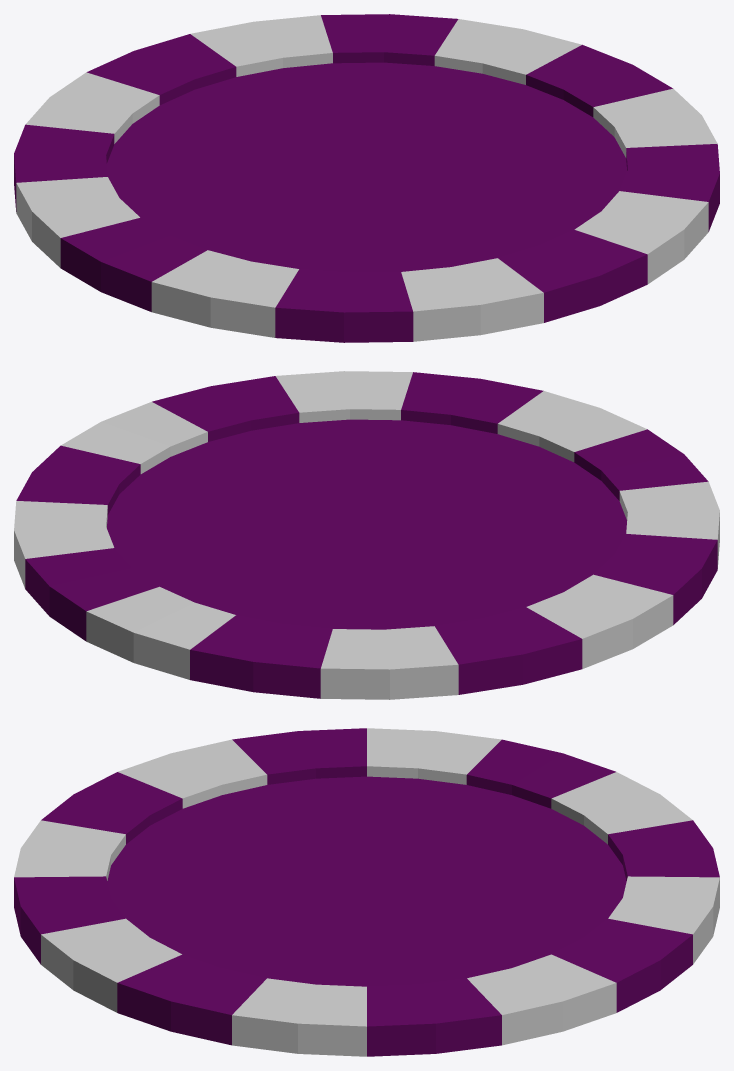
File: PokerChipPurple2.fbx
The picture shows the model from 3 angles, top to bottom: view 1: azimuth 30°, elevation 25°; view 2: azimuth 150°, elevation 25°; view 3: azimuth 270°, elevation 25°; orthographic projection.
Parts seen in each view (by area): view 1: Cylinder; view 2: Cylinder; view 3: Cylinder.
Part boxes in pixels (x1=…): Cylinder: x1=14, y1=14, x2=719, y2=342; Cylinder: x1=14, y1=371, x2=719, y2=699; Cylinder: x1=14, y1=728, x2=719, y2=1056.
Bounding box in the file's own units: 2 × 0.0974 × 2.
